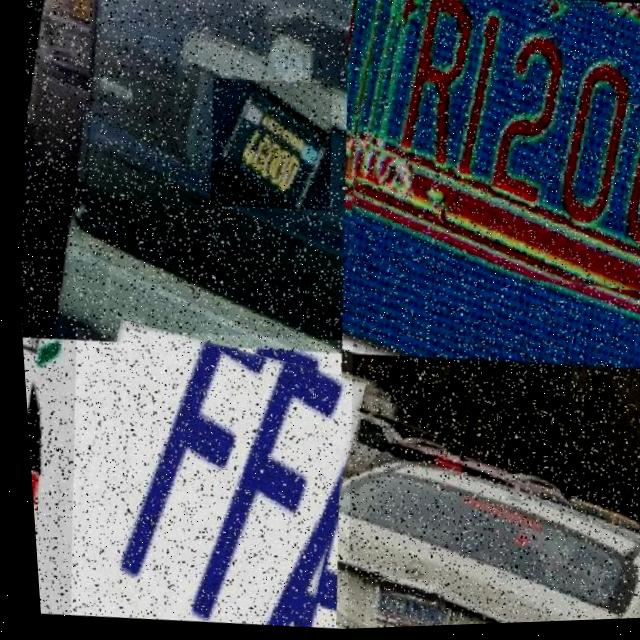LicensePlate: (46, 319, 363, 639), (331, 0, 640, 301), (200, 76, 338, 216), (356, 581, 436, 629)
